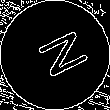N_SW: (24, 26, 86, 84)
